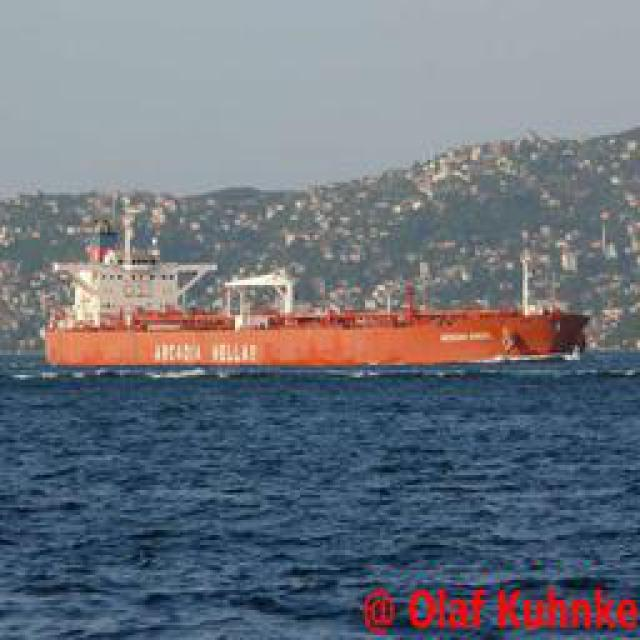Ship: (38, 277, 586, 375)
